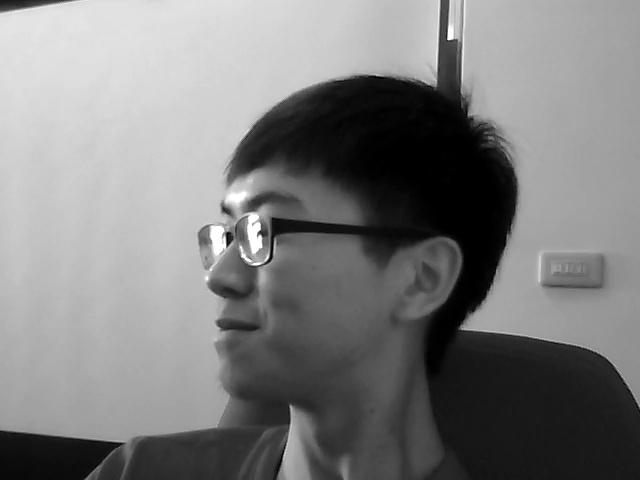eye_closed: (204, 212, 282, 266)
face: (201, 162, 386, 399)
